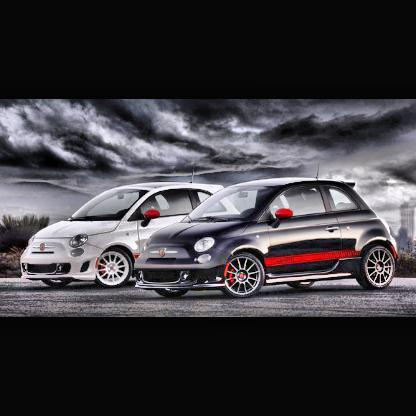FIAT 500 Abarth 2012: (135, 163, 400, 299)
